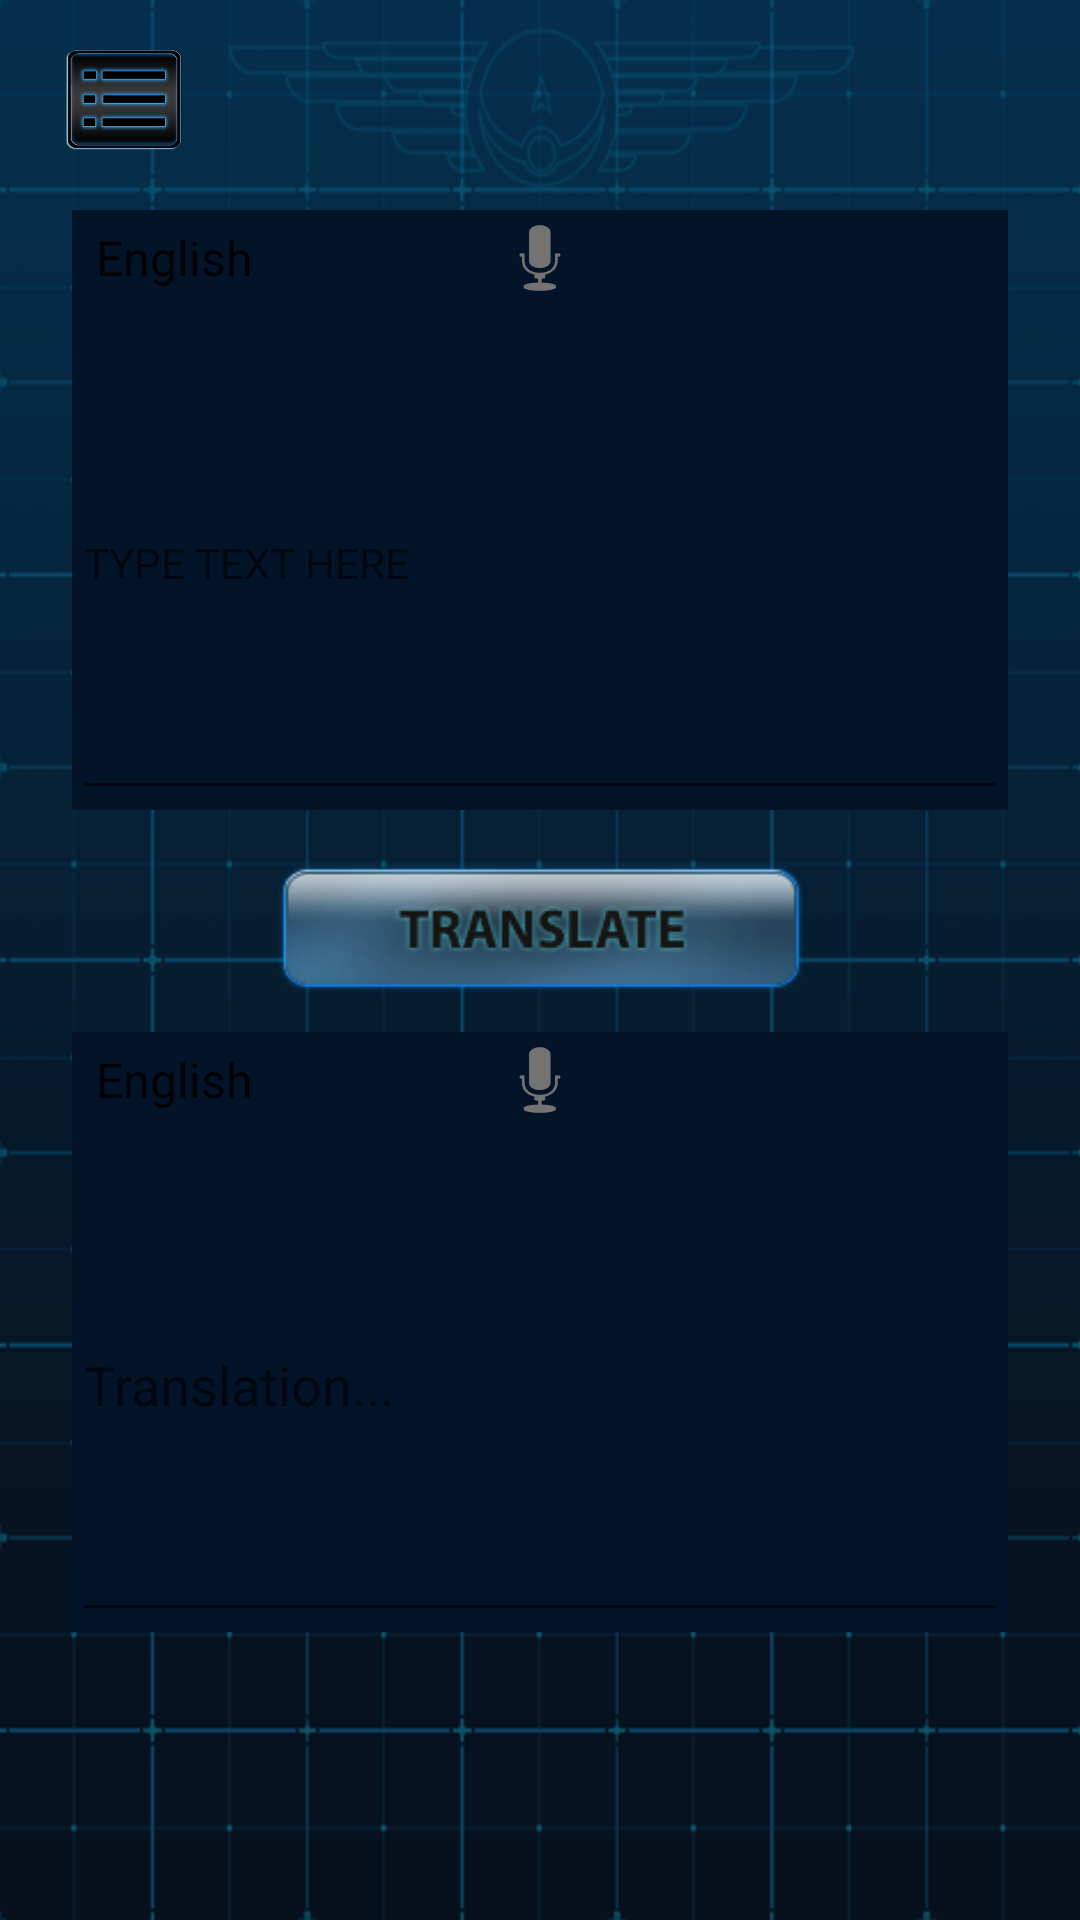

Named icons in this screenshot (1080 x 1920) and their bounding boxes, (x1, y1, x2, y2):
hermes menu: (66, 48, 182, 150)
speak now: (519, 225, 561, 291), (519, 1047, 561, 1113)
